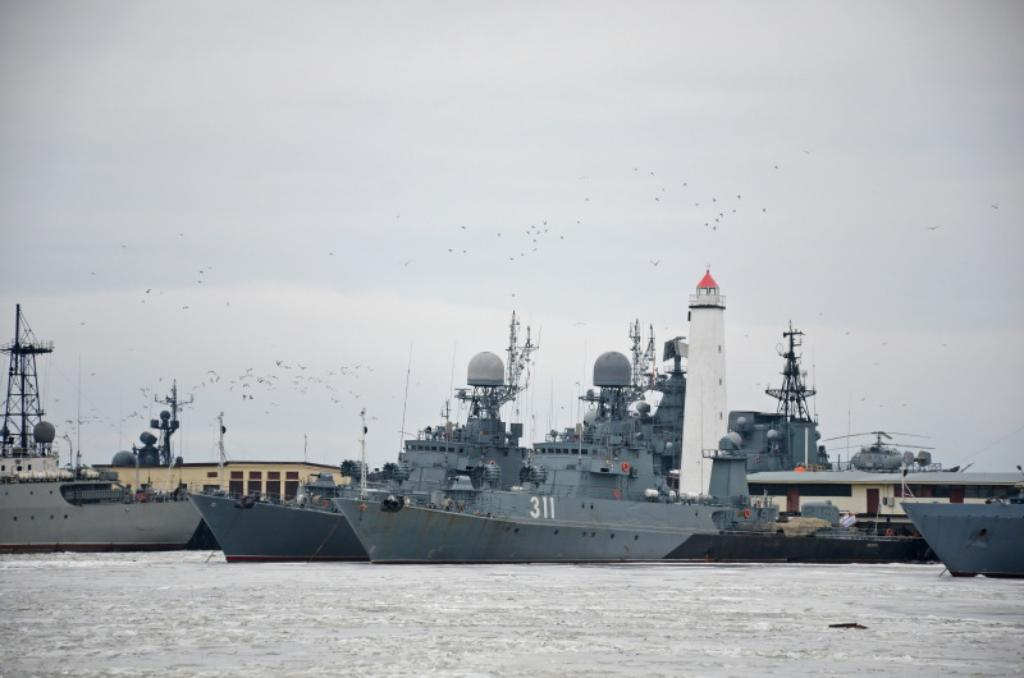Warship: (332, 317, 822, 565), (192, 308, 544, 564), (6, 299, 208, 551)
